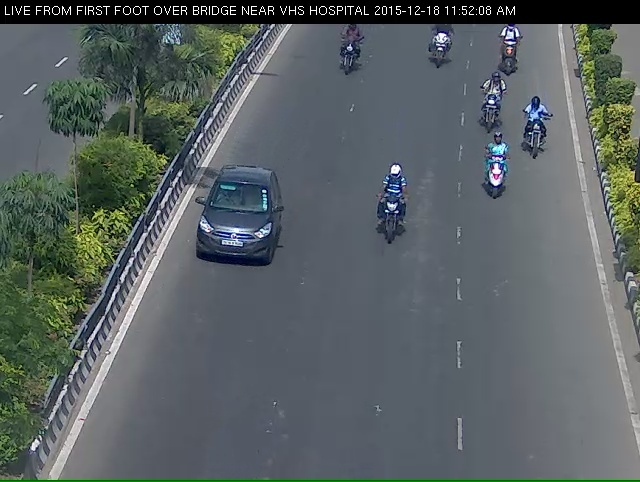Car: (193, 184, 280, 281)
Person: (379, 177, 414, 262), (483, 143, 517, 212), (332, 22, 362, 90), (522, 101, 551, 165), (475, 82, 506, 138), (428, 25, 455, 80), (501, 26, 523, 83)
